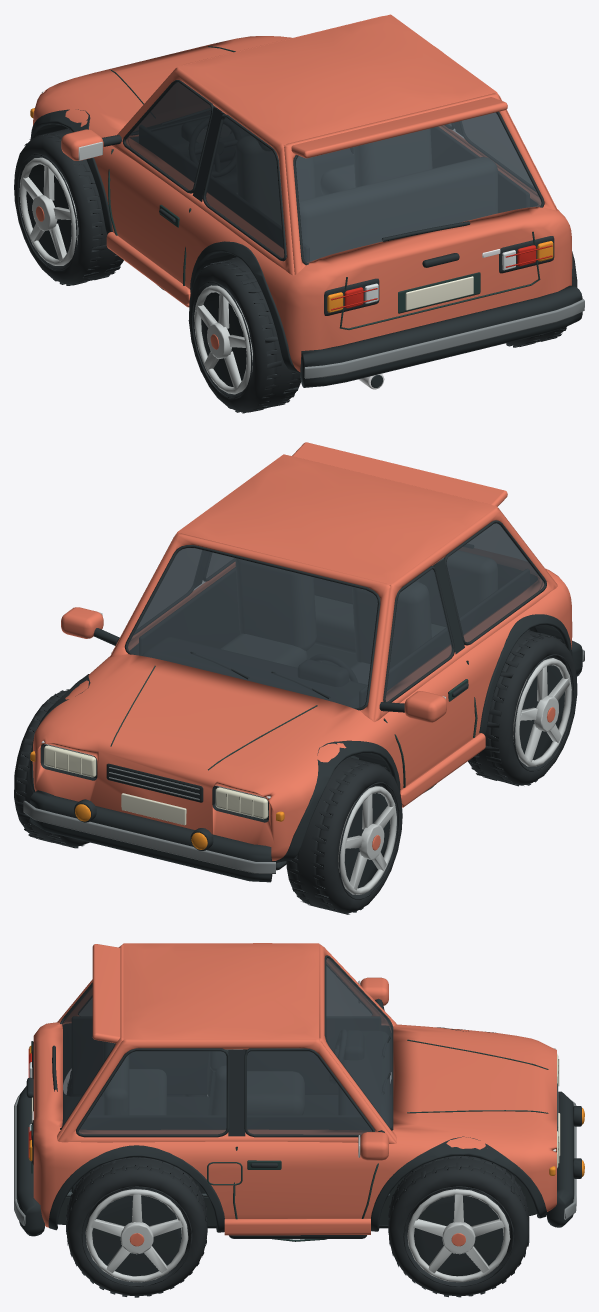
File: sprint_lod1.fbx
The picture shows the model from 3 angles, top to bottom: view 1: azimuth 30°, elevation 25°; view 2: azimuth 150°, elevation 25°; view 3: azimuth 270°, elevation 25°; orthographic projection. The views are drawn at different scales.
Parts seen in each view (by area): view 1: Body, Wheel_RL_Mesh, Wheel_FL_Mesh, Wheel_RR_Mesh; view 2: Body, Wheel_FL_Mesh, Wheel_RL_Mesh, Wheel_FR_Mesh; view 3: Body, Wheel_FR_Mesh, Wheel_RR_Mesh.
Part boxes in pixels (x1,y1,x2,y2): Body: [30, 14, 584, 389]; Wheel_RL_Mesh: [188, 257, 300, 413]; Wheel_FL_Mesh: [14, 128, 123, 285]; Wheel_RR_Mesh: [506, 251, 577, 347]; Body: [23, 442, 584, 882]; Wheel_FL_Mesh: [286, 757, 402, 914]; Wheel_RL_Mesh: [468, 630, 577, 786]; Wheel_FR_Mesh: [14, 689, 89, 848]; Body: [14, 943, 584, 1241]; Wheel_FR_Mesh: [388, 1156, 529, 1297]; Wheel_RR_Mesh: [66, 1157, 207, 1297].
Size of the model in its own units: 232 by 156 by 332.
